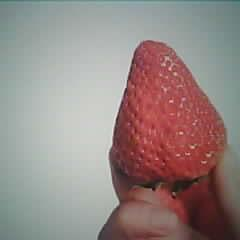straw-ripe: (112, 39, 226, 183)
